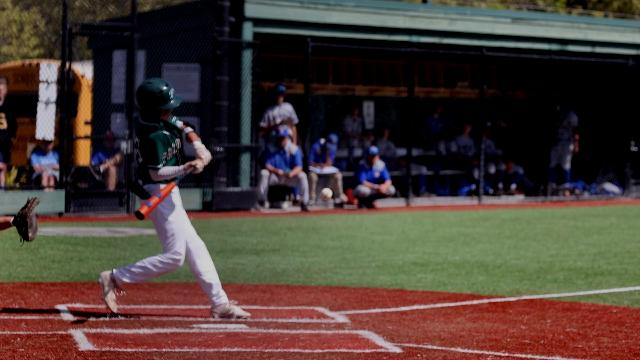bat: (136, 164, 194, 219)
